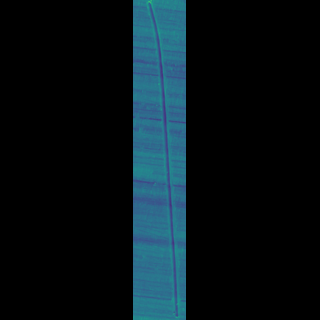Loch: (157, 0, 163, 315)
